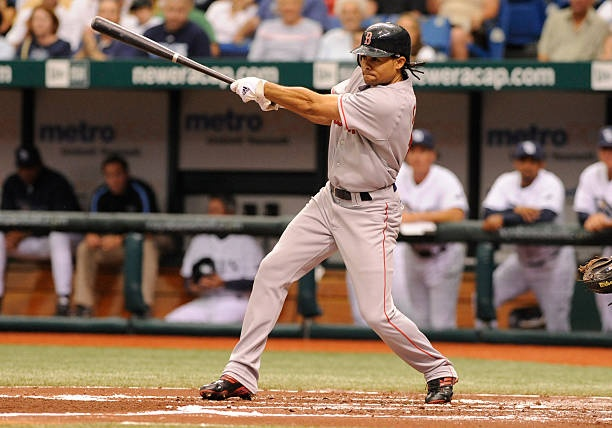bita: (86, 14, 260, 89)
